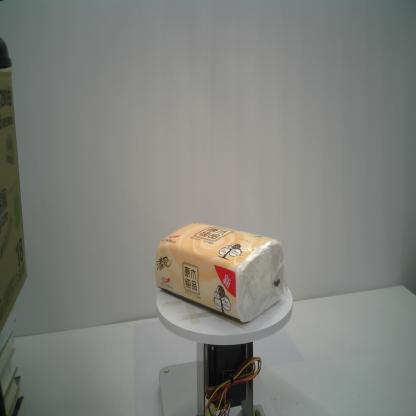Tissue: (154, 218, 286, 326)
